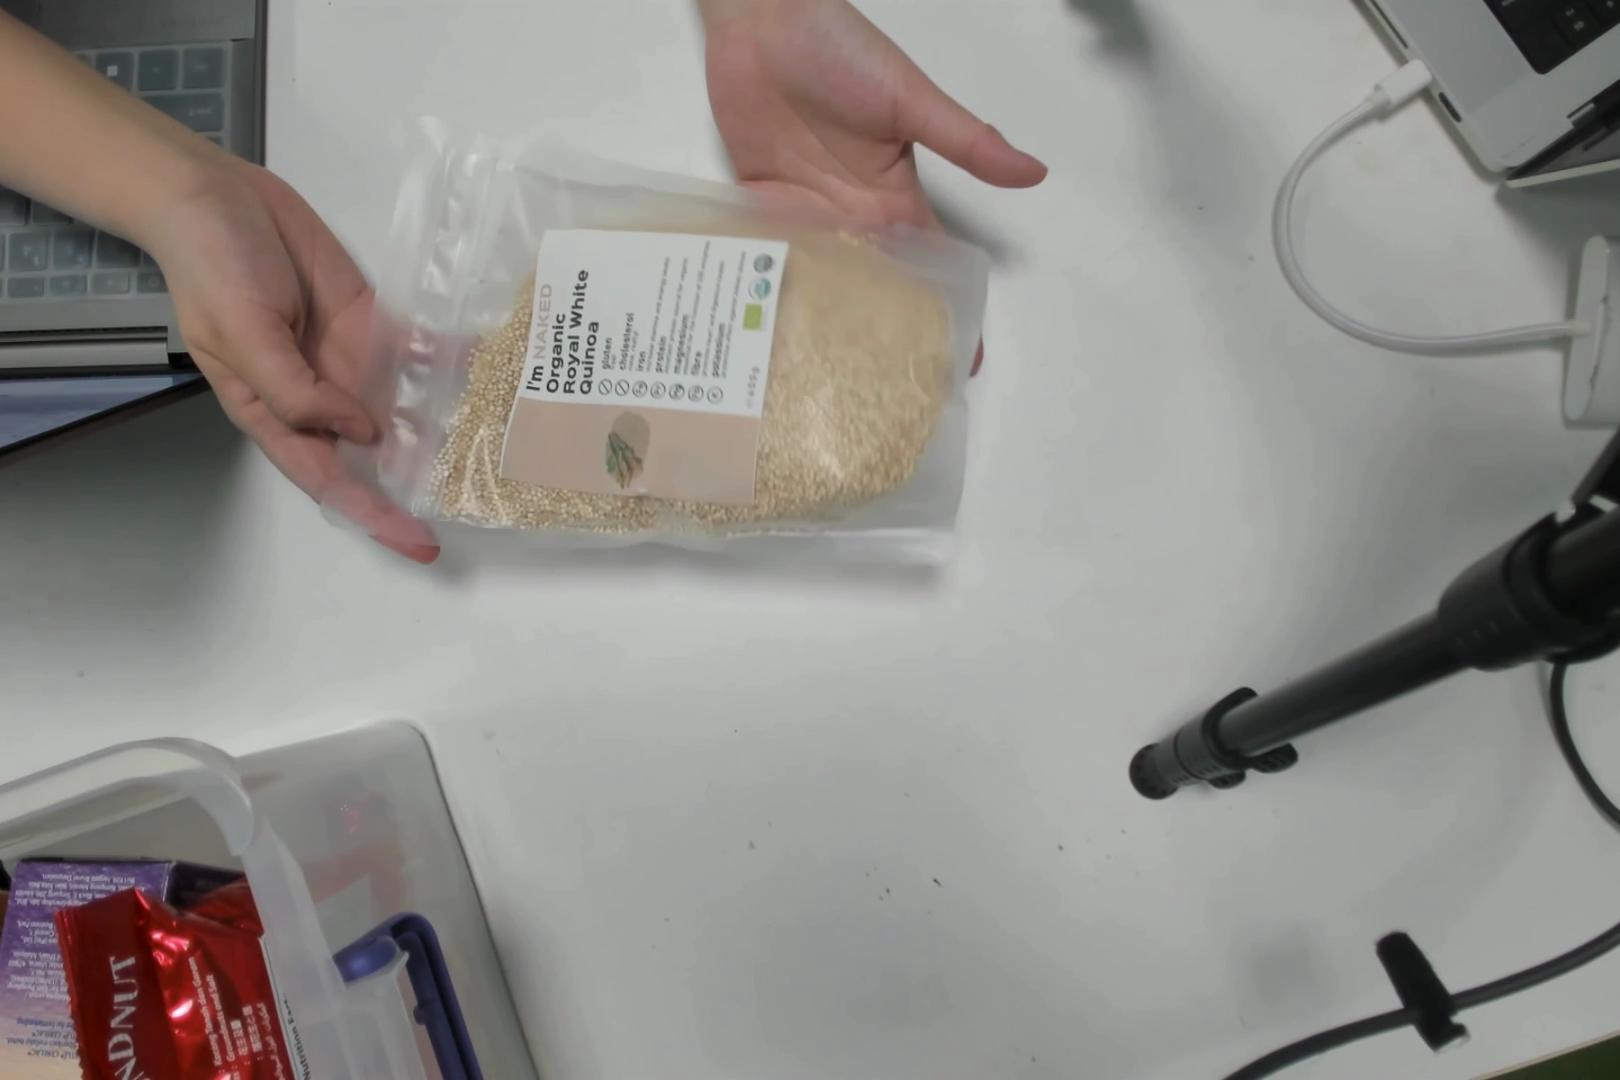Rice(brown-others)_400-499g_Halal_NonHealthy: (465, 174, 968, 526)
